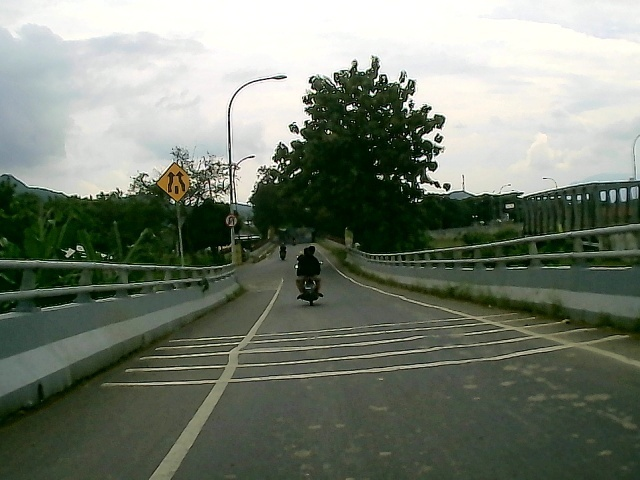Akhir bangunan pemisah satu arah: (154, 161, 194, 202)
Dilarang berbalik arah: (225, 213, 238, 229)
